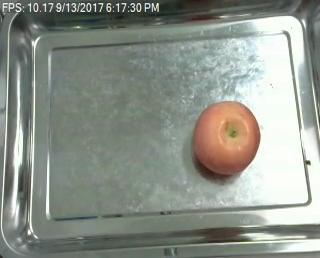apple: (192, 99, 261, 175)
